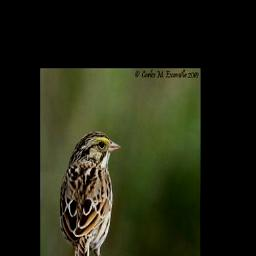Sparrow: (59, 130, 123, 256)
